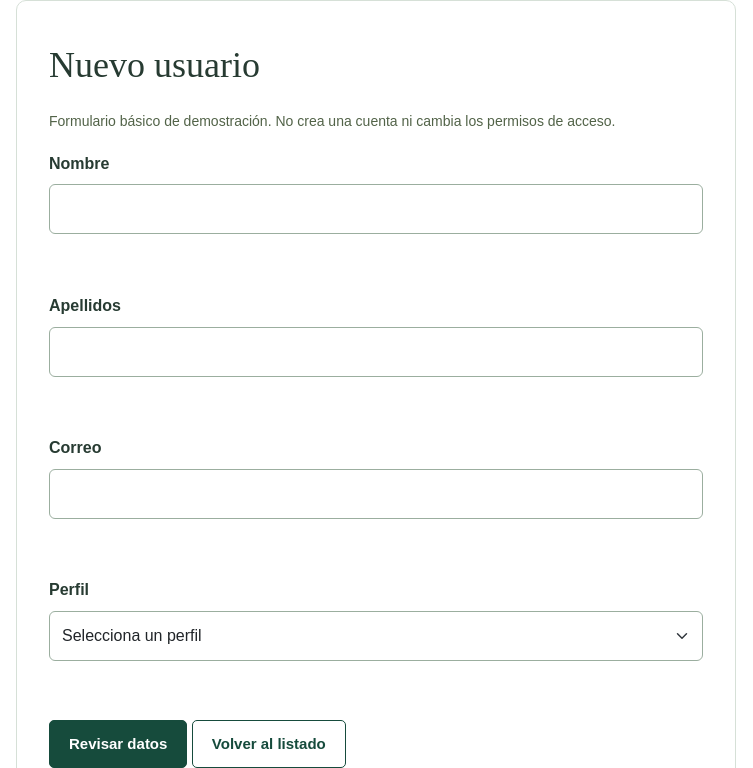
Scenario: Formularios de administración › CP-15: revisa un usuario ficticio sin afirmar que creó una cuenta
The image size is (753, 768).
Type "María" into the field labelled "Nombre" at [376, 209], box x1=49 y1=184 x2=703 y2=234
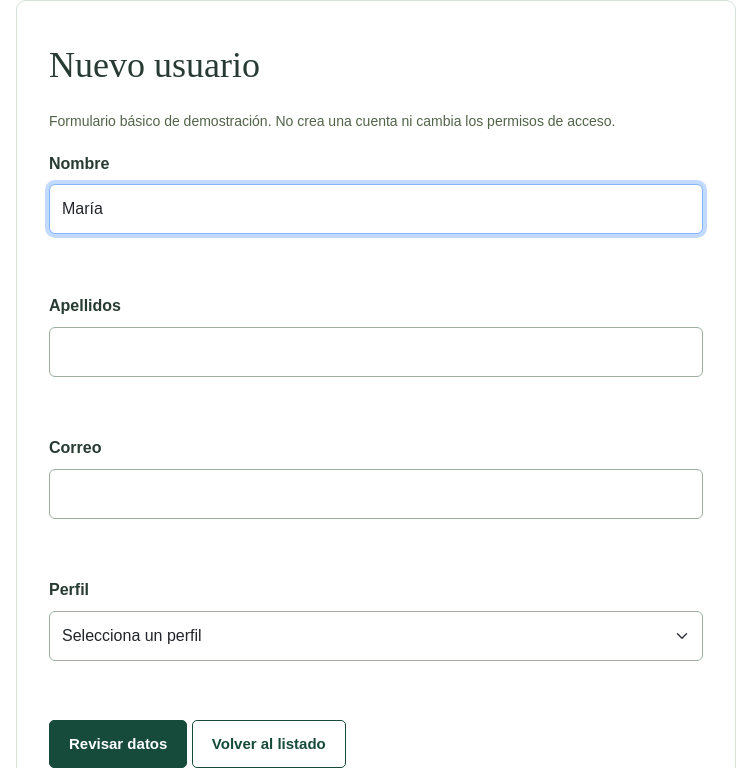
Type "Muñoz Soto" into the field labelled "Apellidos" at [376, 352], box x1=49 y1=327 x2=703 y2=377
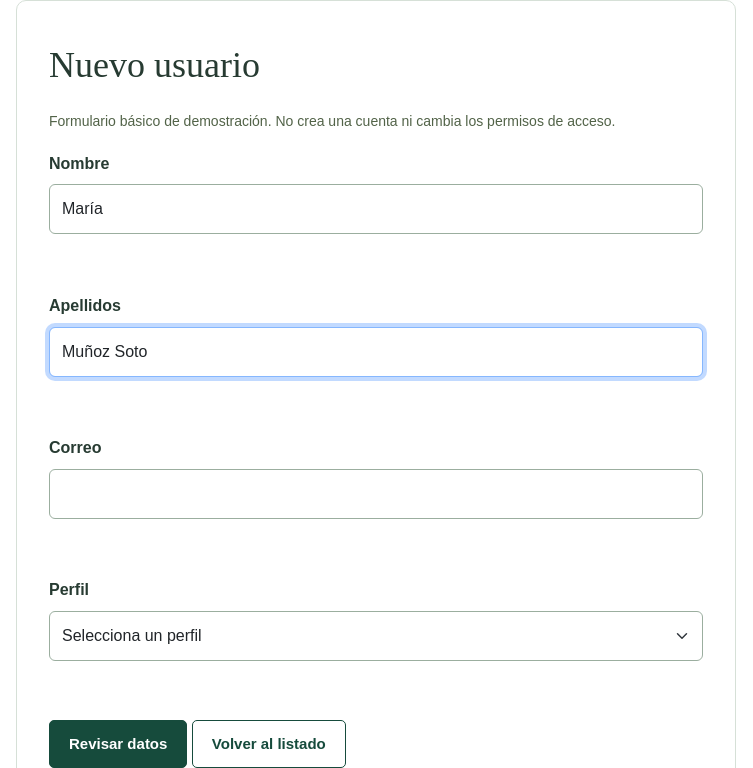
Type "maria@profesor.duoc.cl" into the field labelled "Correo" at [376, 494], box x1=49 y1=469 x2=703 y2=519
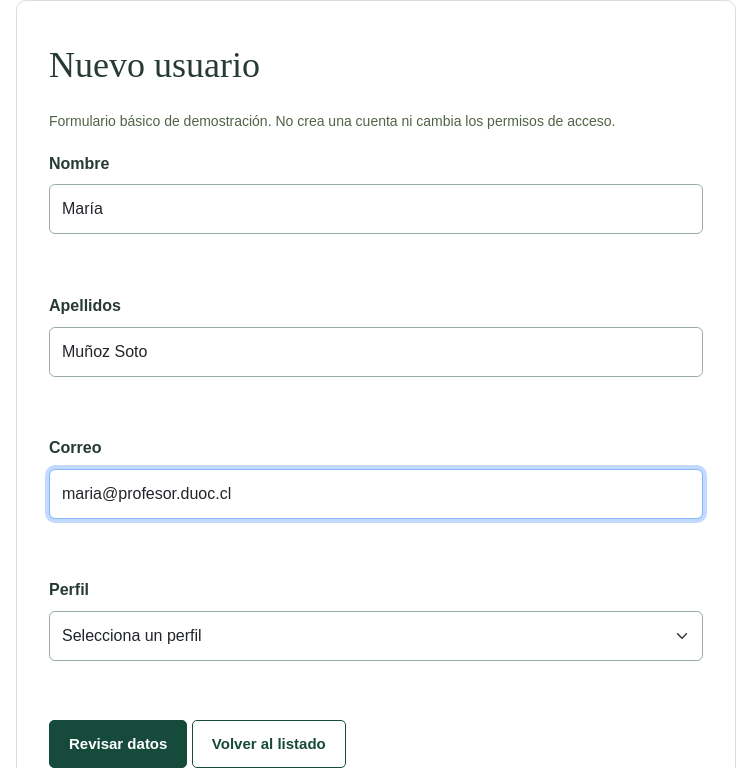
Select "Cliente" in the dropdown labelled "Perfil" at [376, 636], box x1=49 y1=611 x2=703 y2=661
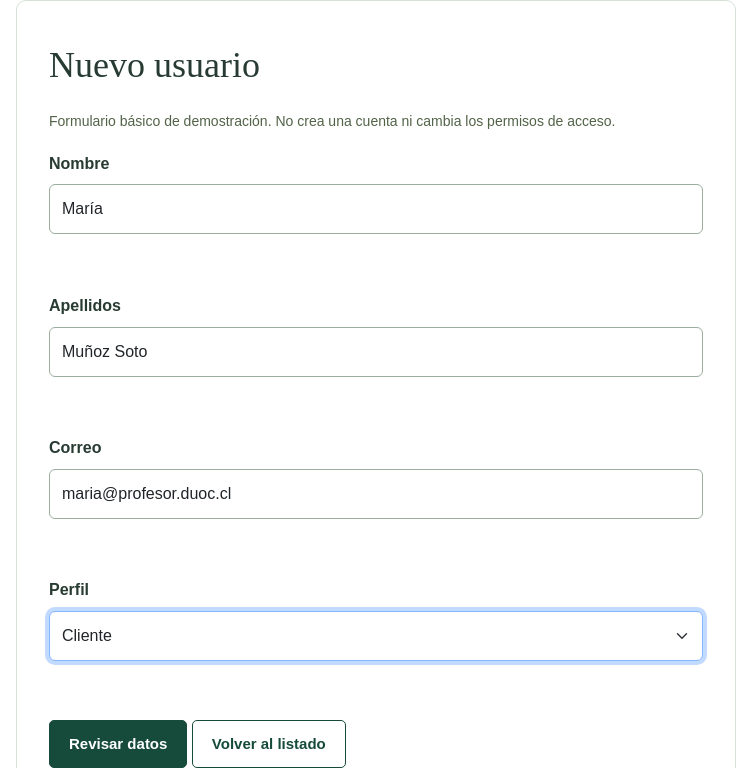
Click the button "Revisar datos" at [118, 744], box x1=49 y1=720 x2=187 y2=767
(page scrolled)
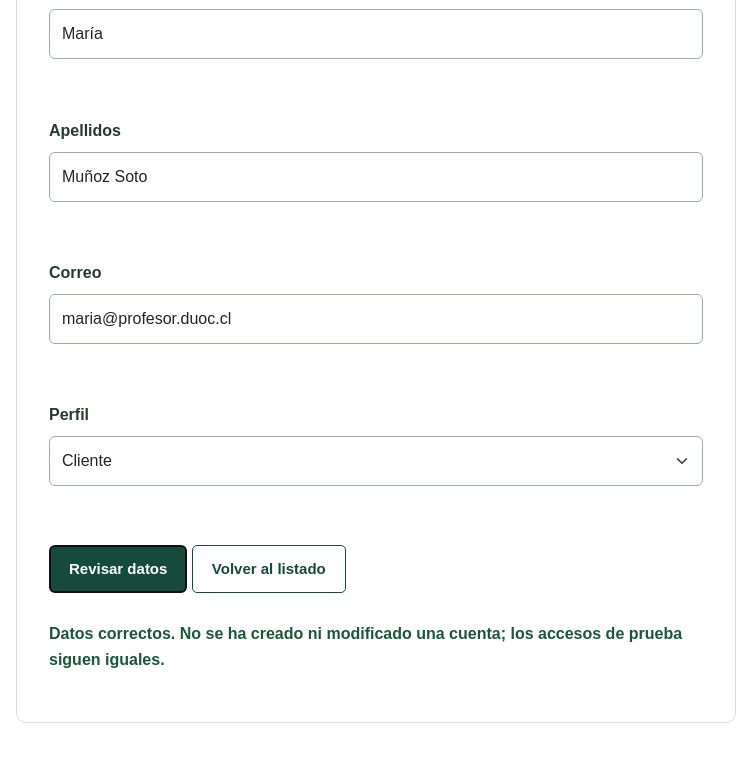
Check: the text "Datos correctos. No se ha creado ni modificado una cuenta; los accesos de prueba siguen iguales." is shown, box x1=49 y1=625 x2=682 y2=668
